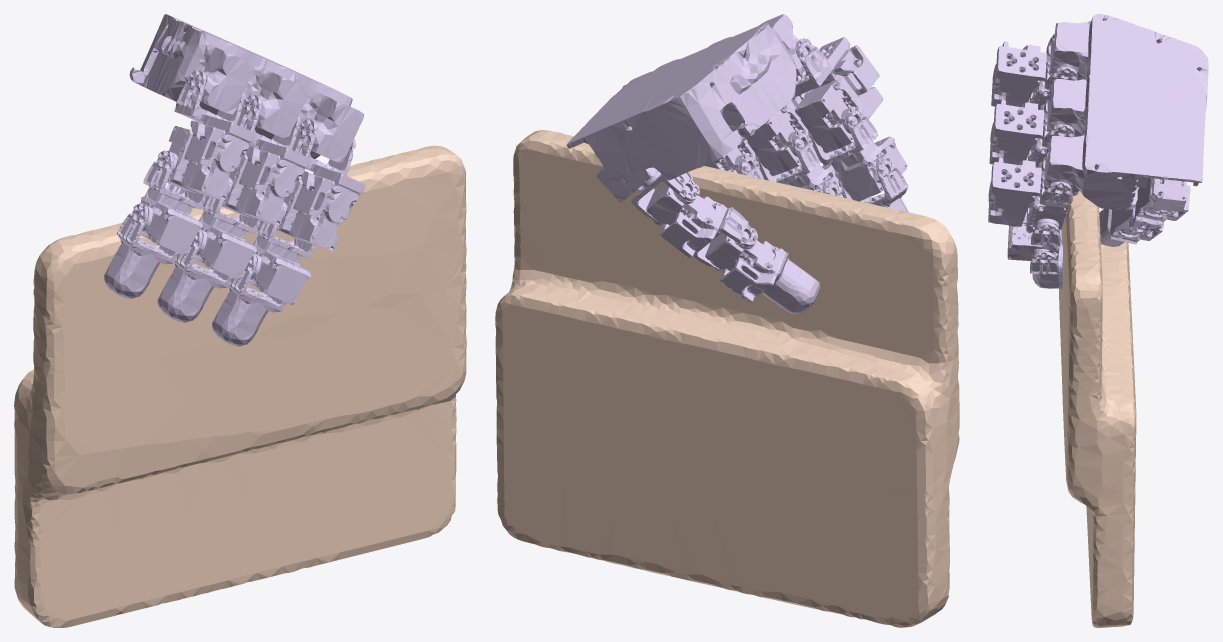
Rendered from af6c1109fb62d4-closed.glb.
The picture shows the model from 3 angles, left to right: view 1: azimuth 30°, elevation 25°; view 2: azimuth 150°, elevation 25°; view 3: azimuth 270°, elevation 25°; orthographic projection. The views are drawn at different scales.
Visible parts, largest first — view 1: world, LEAP_hand; view 2: world, LEAP_hand; view 3: LEAP_hand, world.
Boxes of the visible parts, x1,y1,x2,y2 form: world: (14,145,466,627); LEAP_hand: (104,14,365,346); world: (495,130,959,627); LEAP_hand: (566,14,908,313); LEAP_hand: (988,14,1208,288); world: (1059,191,1136,627).
Size of the model in its own units: 0.3051 by 0.378 by 0.1477.
